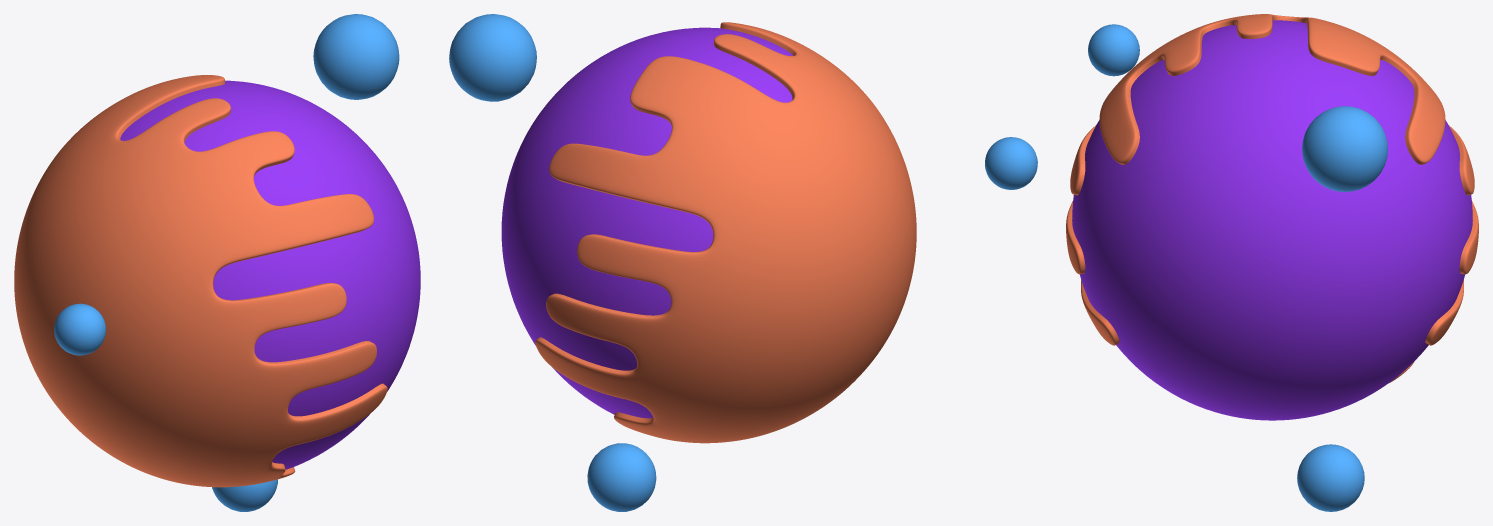
File: planet-6.glb
3 renders of one model, left to right at view 1: azimuth 30°, elevation 25°; view 2: azimuth 150°, elevation 25°; view 3: azimuth 270°, elevation 25°, orthographic. The views are drawn at different scales.
Visible parts, largest first — view 1: Roundcube.001, Roundcube, Roundcube.002, Roundcube.004, Roundcube.003; view 2: Roundcube.001, Roundcube, Roundcube.002, Roundcube.003, Roundcube.004; view 3: Roundcube, Roundcube.001, Roundcube.002, Roundcube.003, Roundcube.004.
Part boxes in pixels (x1,y1,x2,y2): Roundcube.001: (14,75,387,487); Roundcube: (120,80,420,469); Roundcube.002: (313,14,399,99); Roundcube.004: (54,303,105,355); Roundcube.003: (212,479,277,511); Roundcube.001: (535,22,916,443); Roundcube: (501,27,792,418); Roundcube.002: (449,14,536,101); Roundcube.003: (587,443,656,511); Roundcube.004: (985,137,1037,189); Roundcube: (1072,20,1472,420); Roundcube.001: (1066,14,1478,382); Roundcube.002: (1302,106,1387,191); Roundcube.003: (1297,444,1364,511); Roundcube.004: (1088,24,1139,76).
Bounding box in the file's own units: 2.45 × 2.37 × 1.94.
